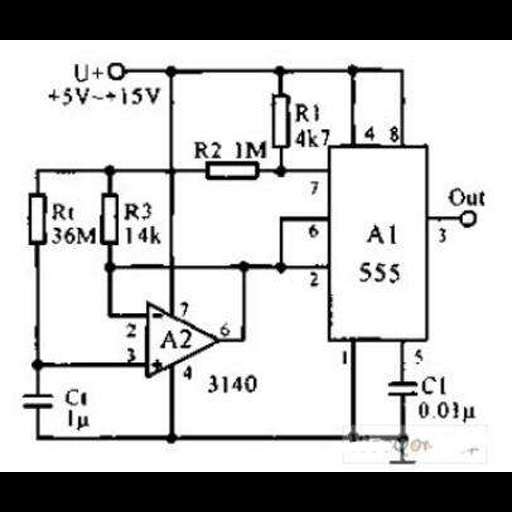amplifier: (139, 298, 222, 380)
capacitor: (384, 377, 420, 401), (19, 392, 57, 414)
firstresistance: (266, 88, 293, 151), (24, 190, 50, 247), (97, 191, 122, 249), (201, 161, 264, 182)
